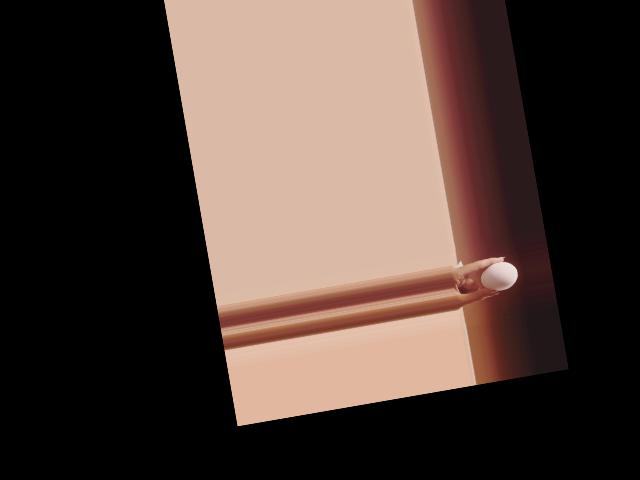egg: (477, 260, 519, 294)
